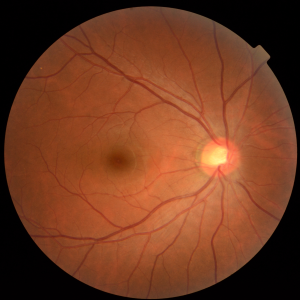healthy_eye: (35, 90, 268, 217)
